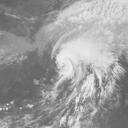cyclone: (54, 34, 116, 92)
